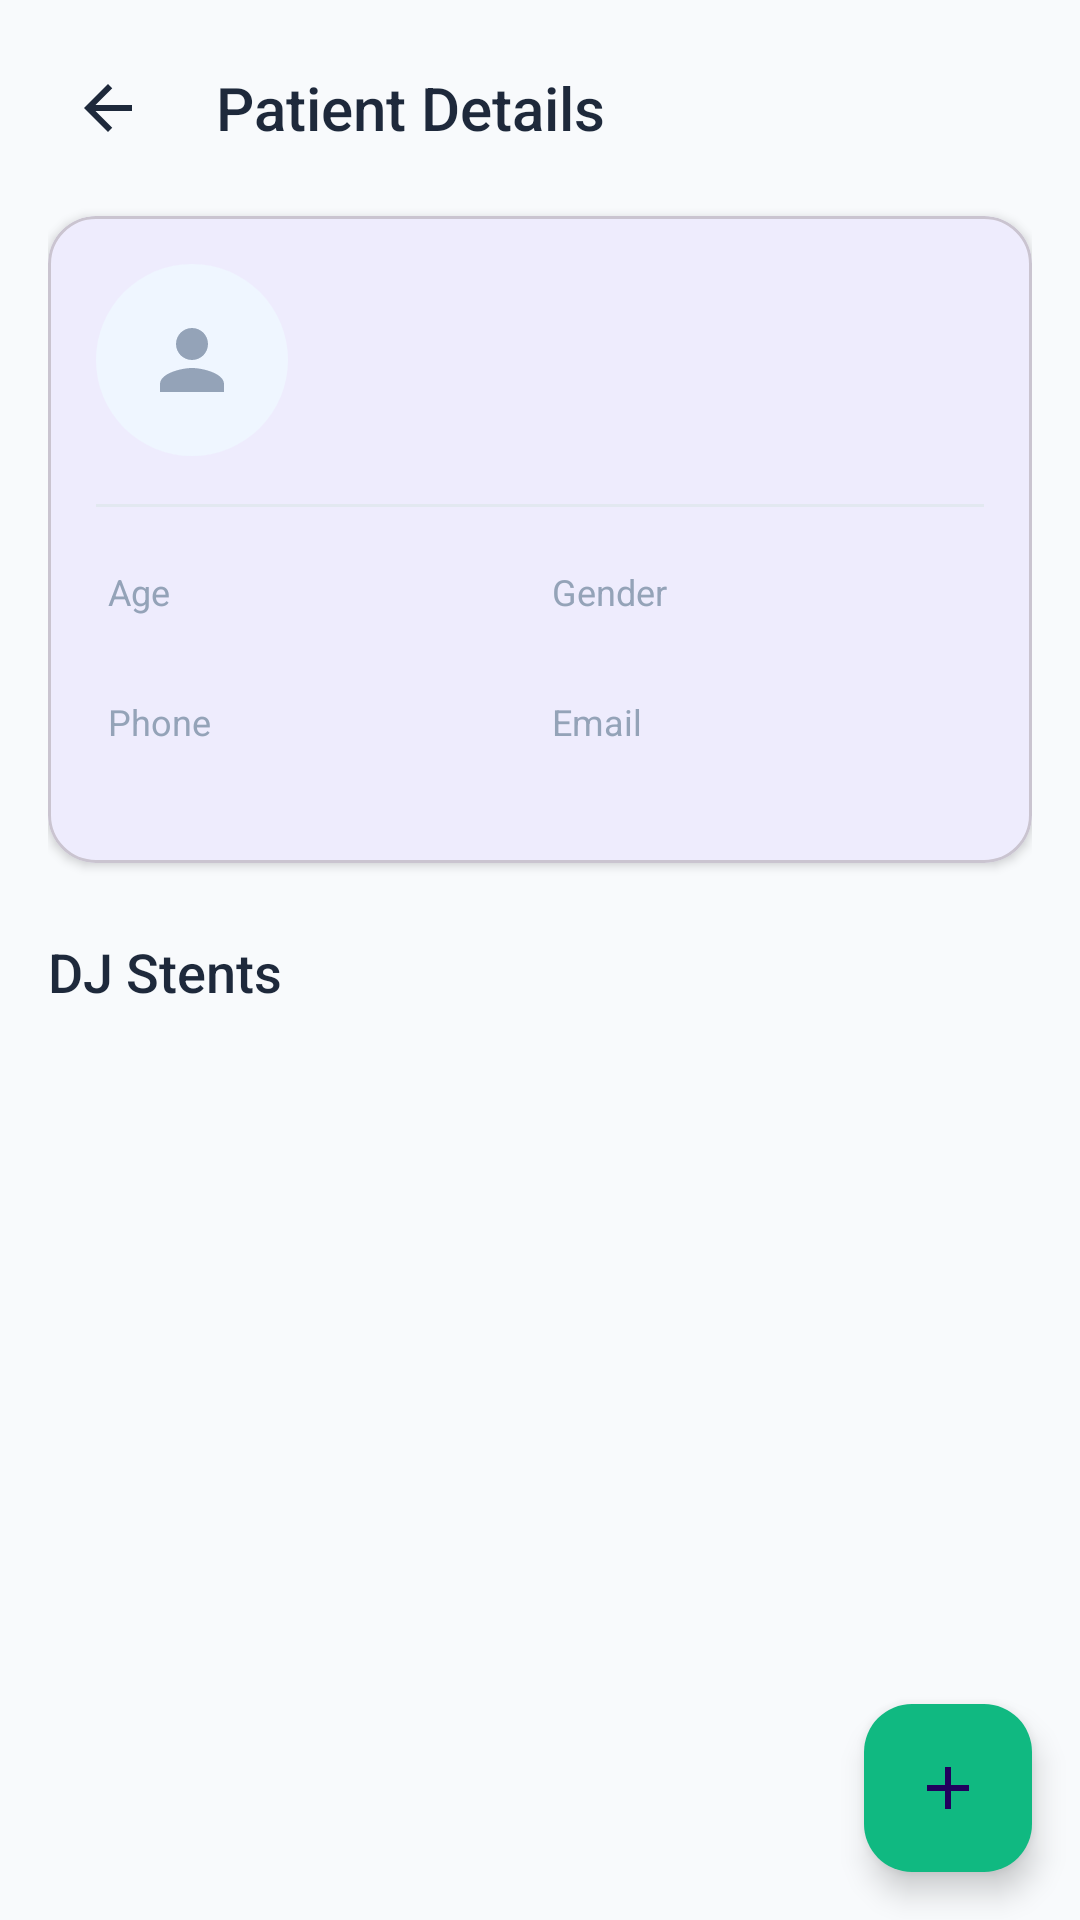

Icon bounding boxes for this 1080w x 1920h phone screenshot, format Rect(x1, y1, x2, y2):
Back: Rect(84, 84, 132, 132)
plus: Rect(864, 1704, 1032, 1872)
profile: Rect(160, 328, 224, 392)
